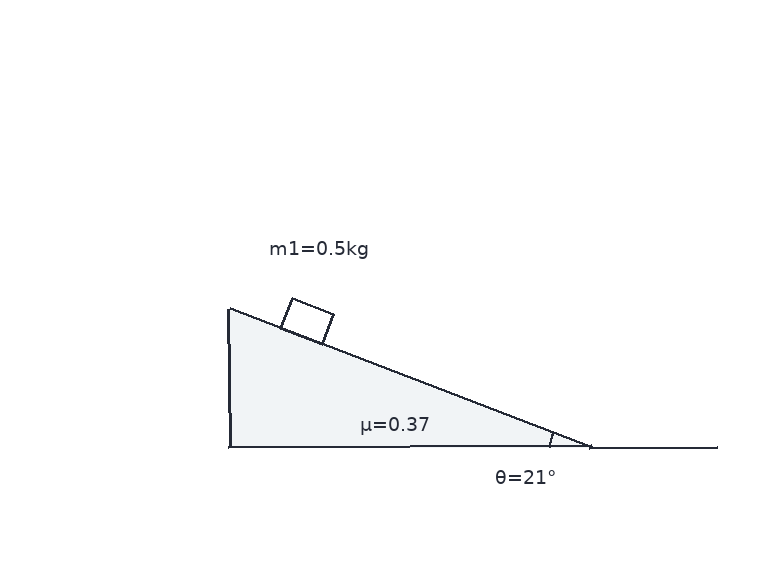block: (278, 296, 335, 346)
ramp: (228, 307, 592, 449)
